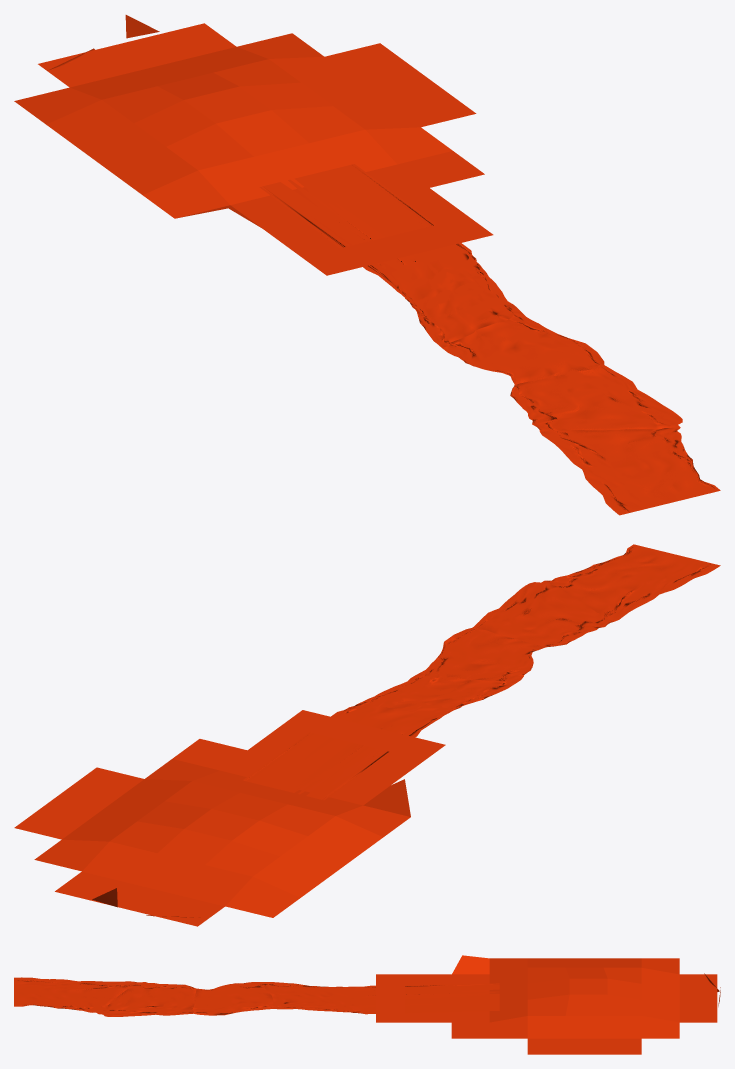
File: navmesh-cave.glb
3 renders of one model, top to bottom at view 1: azimuth 30°, elevation 25°; view 2: azimuth 150°, elevation 25°; view 3: azimuth 270°, elevation 25°, orthographic. The views are drawn at different scales.
Parts seen in each view (by area): view 1: cave_1; view 2: cave_1; view 3: cave_1.
Boxes of the visible parts, x1,y1,x2,y2 form: cave_1: (14, 15, 720, 515); cave_1: (14, 544, 720, 926); cave_1: (14, 955, 720, 1054).
Bounding box in the file's own units: 14.65 × 1.56 × 45.48.
